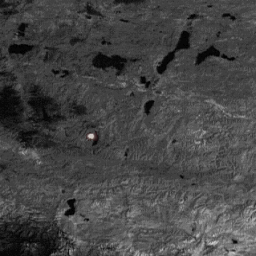Target: (86, 131, 97, 141)
